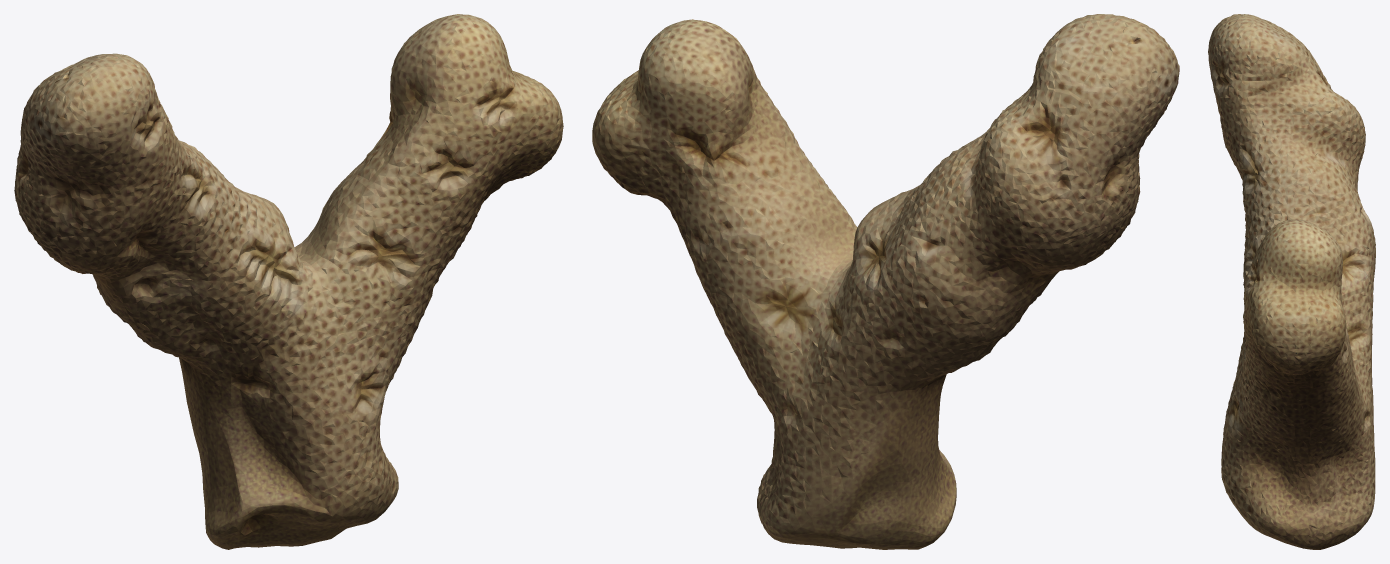
3 renders of one model, left to right at view 1: azimuth 30°, elevation 25°; view 2: azimuth 150°, elevation 25°; view 3: azimuth 270°, elevation 25°, orthographic. The views are drawn at different scales.
Parts seen in each view (by area): view 1: world; view 2: world; view 3: world.
Part boxes in pixels (x1,y1,x2,y2): world: [14, 14, 563, 549]; world: [592, 14, 1179, 549]; world: [1208, 14, 1375, 549].
Bounding box in the file's own units: 1 × 0.9825 × 0.3503.
1 material, 1 textured.
